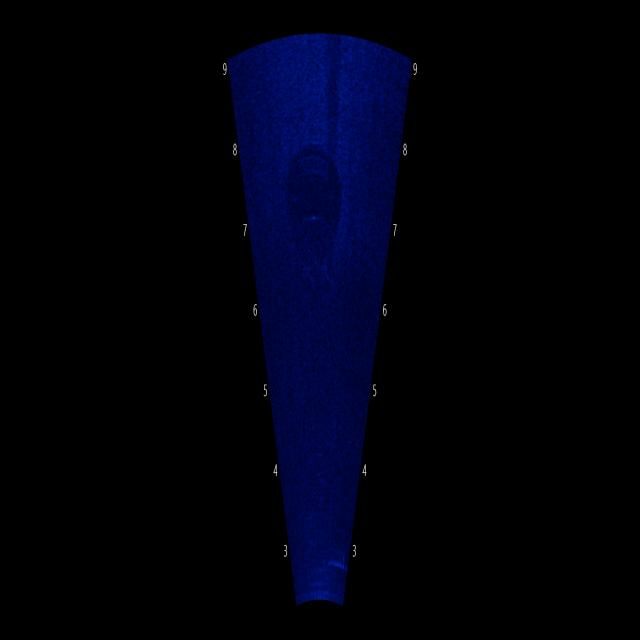circle: (276, 119, 352, 291)
